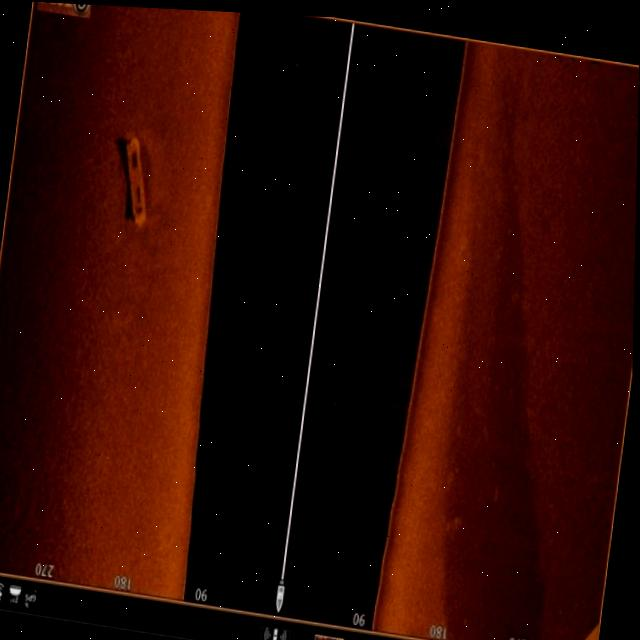shipwreck: (111, 134, 160, 231)
